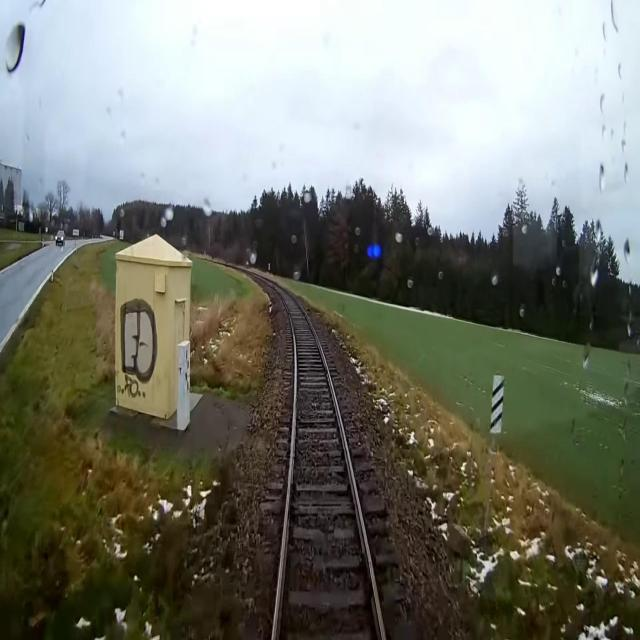rail-track: (269, 282, 382, 639)
